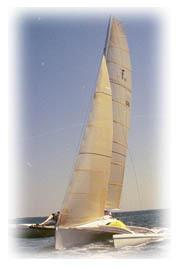Ship: (14, 11, 181, 254)
